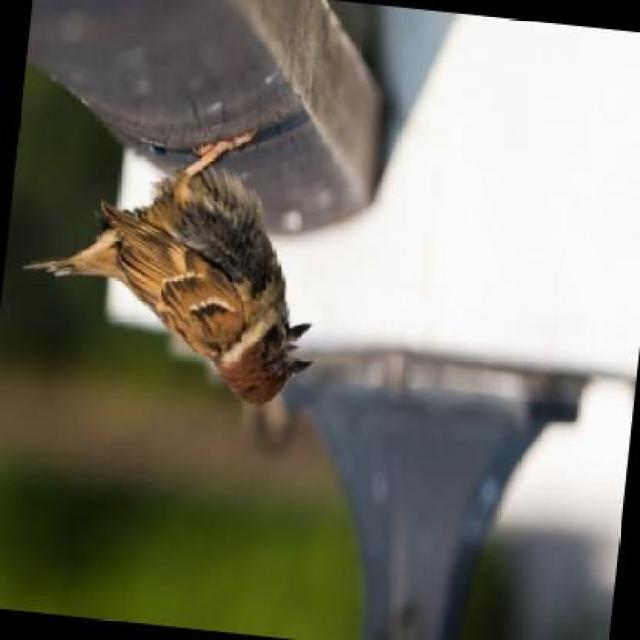Bird: (34, 151, 318, 401)
